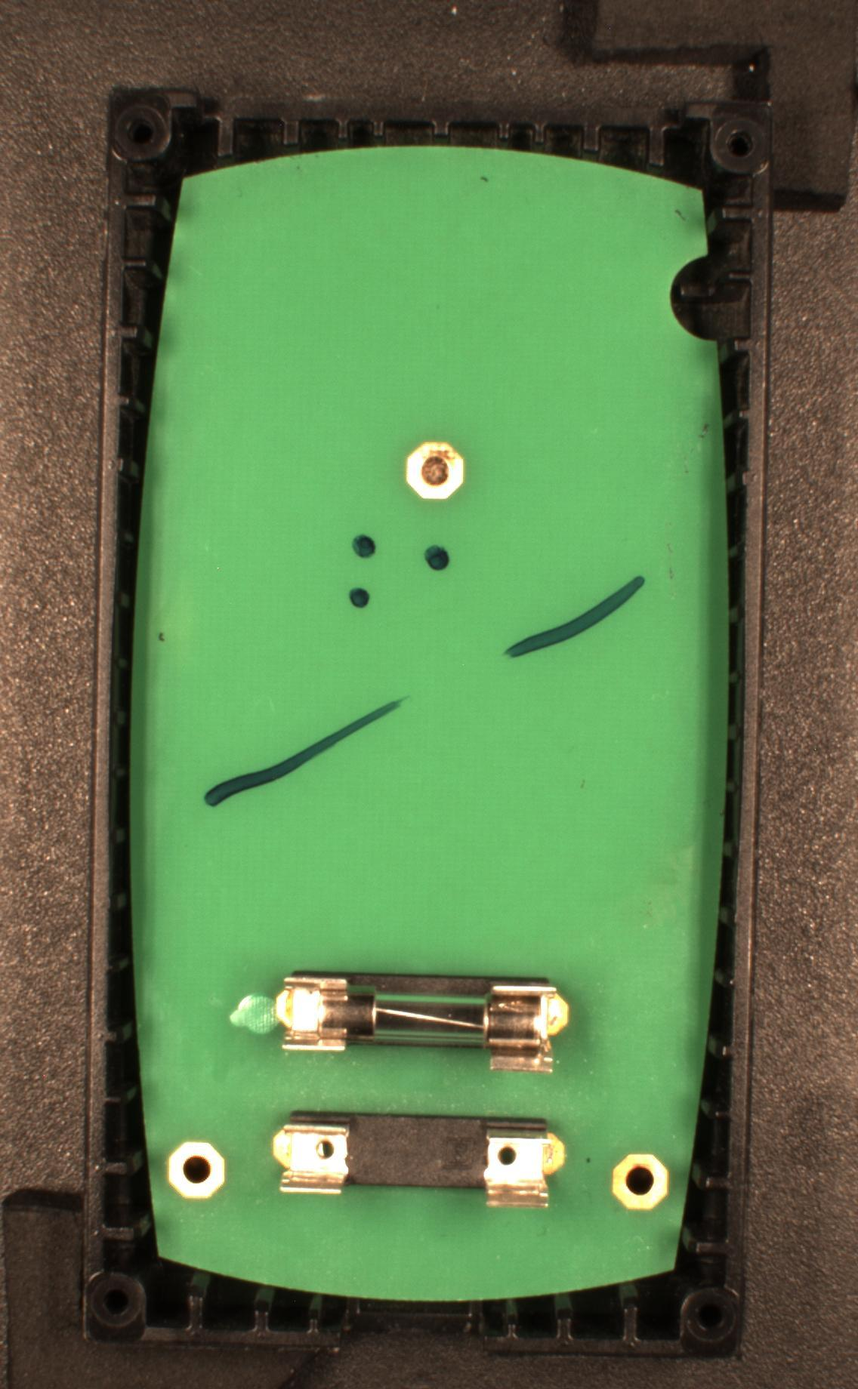Linijsko Ostecene: (203, 692, 413, 809), (503, 575, 649, 662)
Nepostojanje osiguraca: (272, 1106, 568, 1211)
Tockasto Ostecenje: (350, 533, 377, 560), (424, 545, 450, 571), (348, 587, 371, 608)
